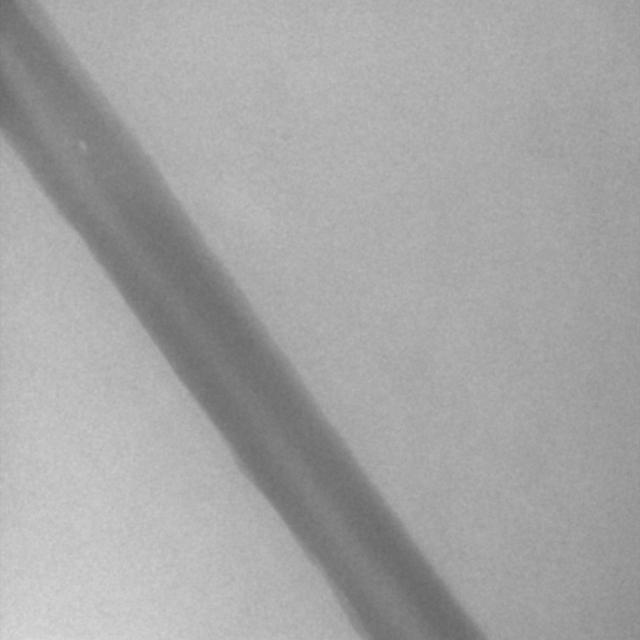air hole: (78, 138, 87, 154)
